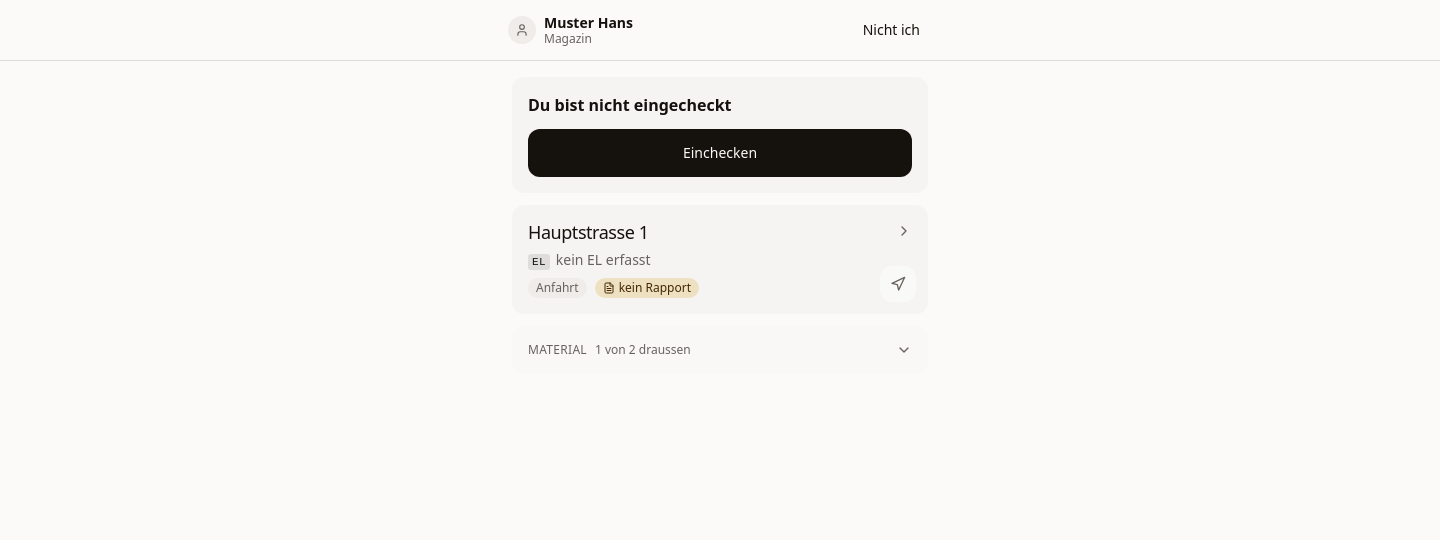
Test: /feld for a Magazin person who also has own work › opens the table on tap
The image size is (1440, 540).
Click the button "Material 1 von 2 draussen": coordinates (557, 349) [528,342,912,358]
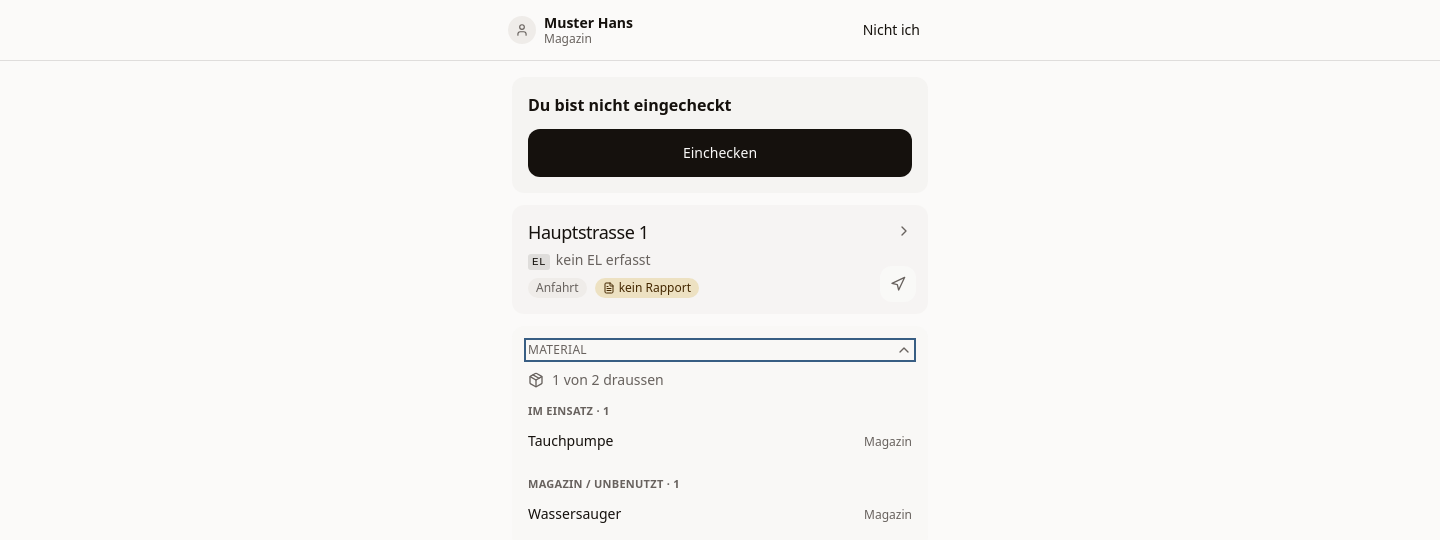
Result: the text "Tauchpumpe" is shown at [528,431,613,451]
